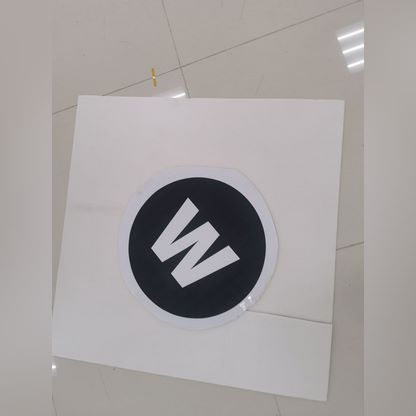W: (136, 188, 252, 298)
